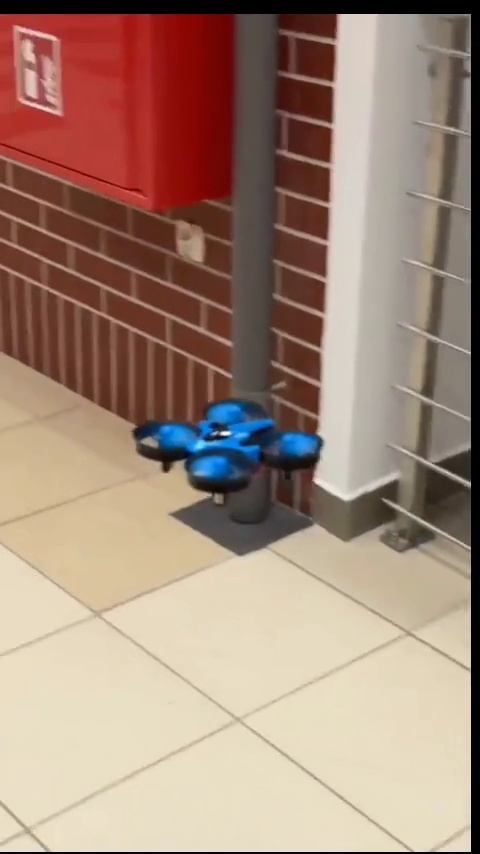drone: (133, 398, 320, 500)
